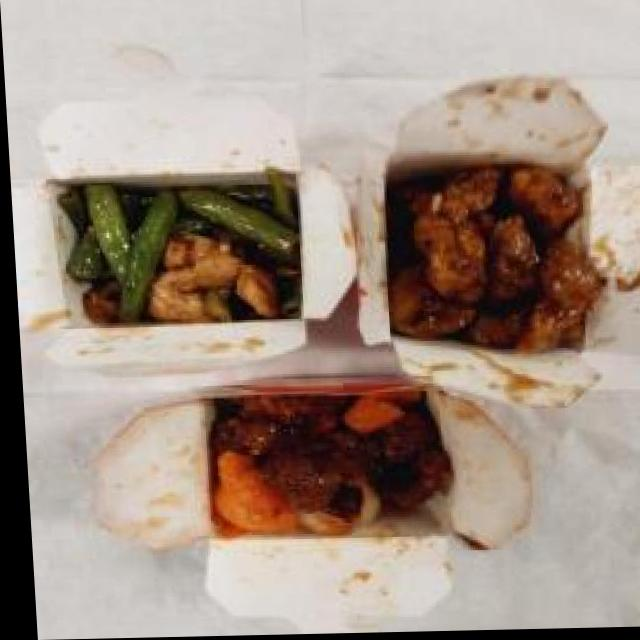Beijing Beef: (193, 379, 458, 542)
String Bean Chicken Breast: (56, 172, 317, 334)
The Original Orange Chicken: (376, 158, 608, 362)
